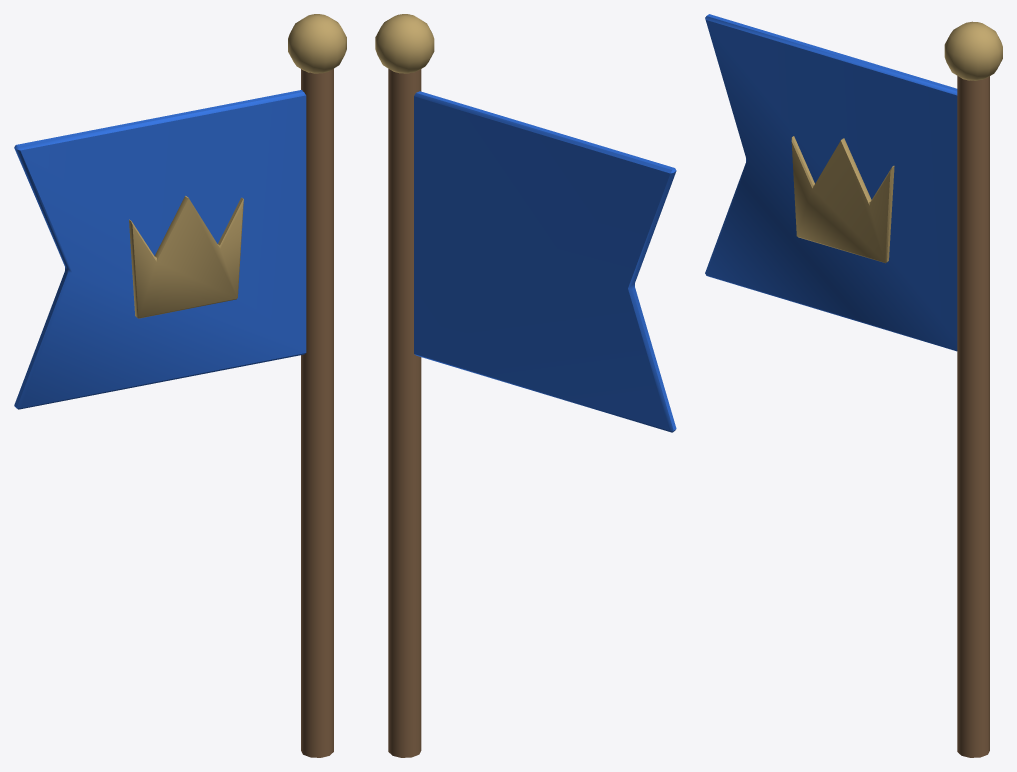
Rendered from Kit_Deco_Banner.glb.
3 renders of one model, left to right at view 1: azimuth 30°, elevation 25°; view 2: azimuth 150°, elevation 25°; view 3: azimuth 330°, elevation 25°, orthographic.
Visible parts, largest first — view 1: Kit_Deco_Banner; view 2: Kit_Deco_Banner; view 3: Kit_Deco_Banner.
Part boxes in pixels (x1=…): Kit_Deco_Banner: x1=14, y1=14, x2=346, y2=757; Kit_Deco_Banner: x1=375, y1=14, x2=676, y2=757; Kit_Deco_Banner: x1=705, y1=14, x2=1002, y2=757.
Size of the model in its own units: 0.2607 by 0.587 by 0.0477.
